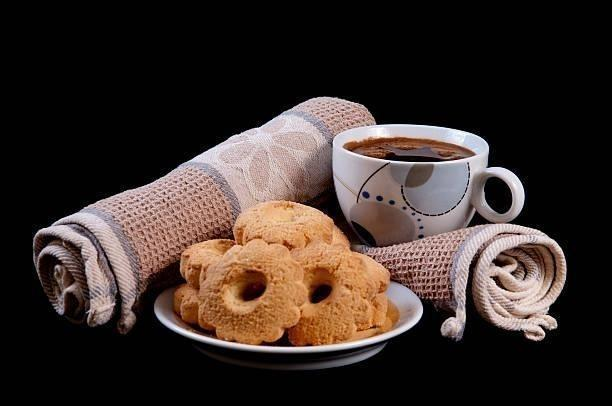cup-handle: (330, 122, 525, 245)
